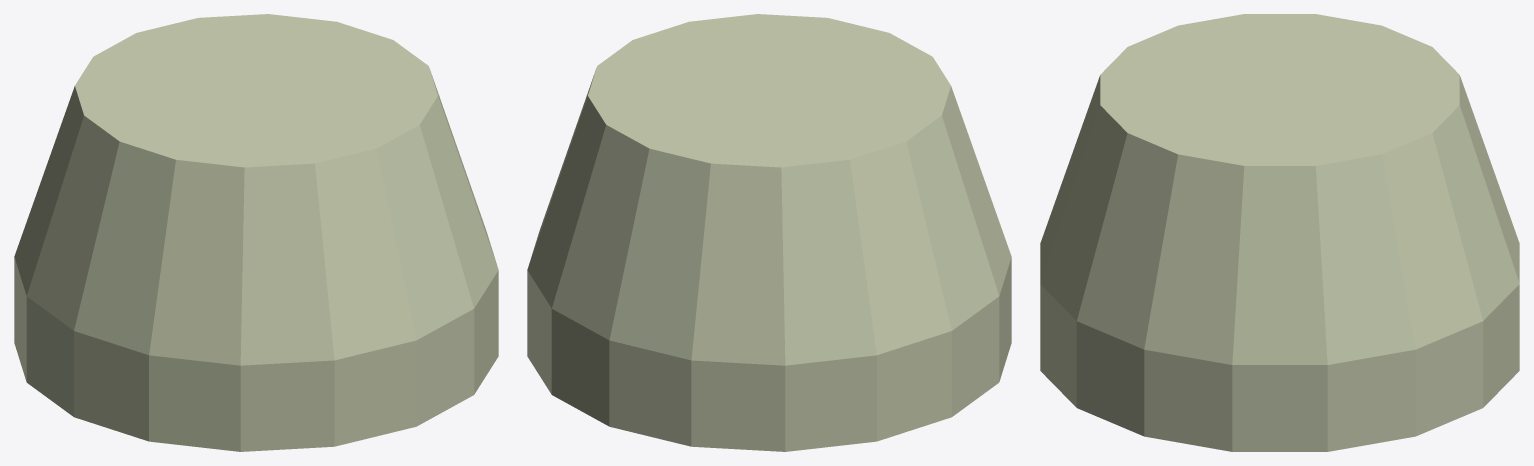
Rendered from aquila_node_adapter_s1_s0p5_1_collider.obj.
The picture shows the model from 3 angles, left to right: view 1: azimuth 30°, elevation 25°; view 2: azimuth 150°, elevation 25°; view 3: azimuth 270°, elevation 25°; orthographic projection.
Visible parts, largest first — view 1: aquila_node_adapter_s1_s0p5_1; view 2: aquila_node_adapter_s1_s0p5_1; view 3: aquila_node_adapter_s1_s0p5_1.
Part boxes in pixels (x1,y1,x2,y2): aquila_node_adapter_s1_s0p5_1: (14,14,498,451); aquila_node_adapter_s1_s0p5_1: (527,14,1011,451); aquila_node_adapter_s1_s0p5_1: (1040,14,1519,451).
Bounding box in the file's own units: 1.25 × 0.75 × 1.25.
